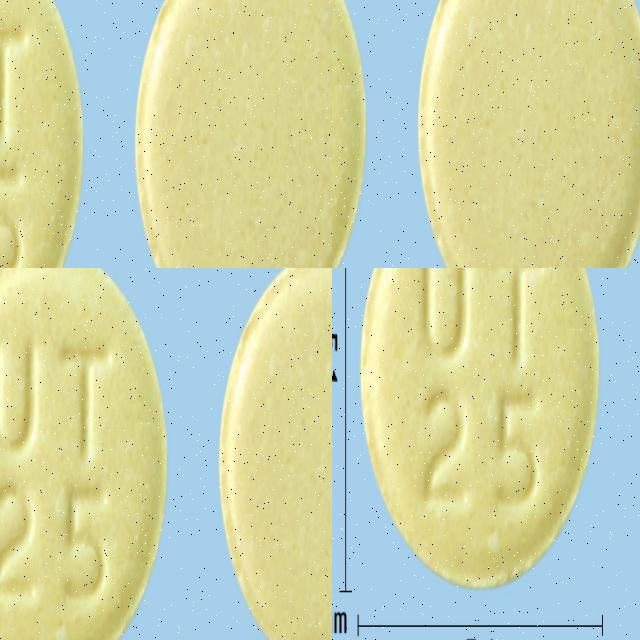Azabio: (0, 268, 171, 640), (219, 268, 332, 640)
Azaprine -25mg: (356, 268, 604, 594)
Claroma: (0, 146, 255, 268)
Cycin - 500mg: (414, 0, 640, 268)
